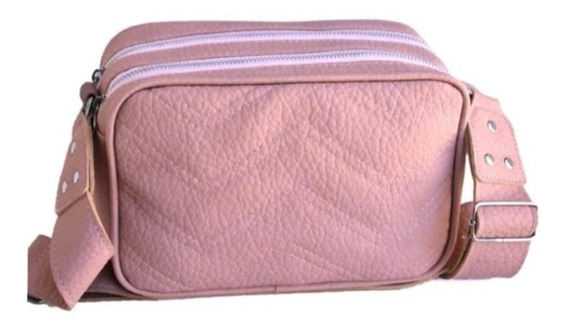cartera: (24, 15, 540, 312)
